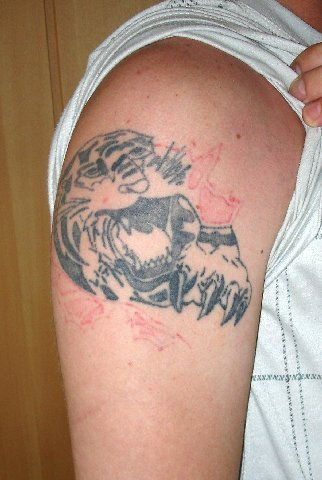tatu5_tigr: (52, 127, 254, 329)
